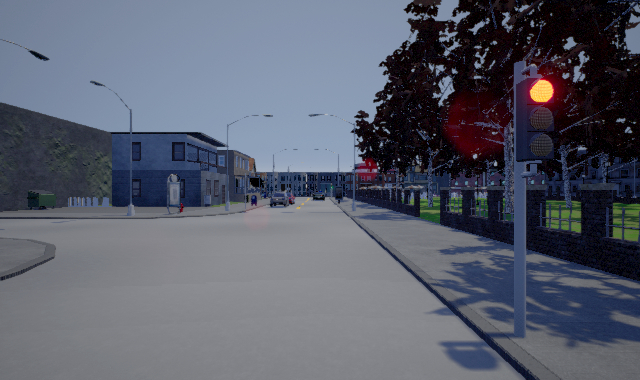traffic_light: (516, 74, 559, 162)
vehicle: (270, 192, 289, 208), (312, 190, 325, 201)
